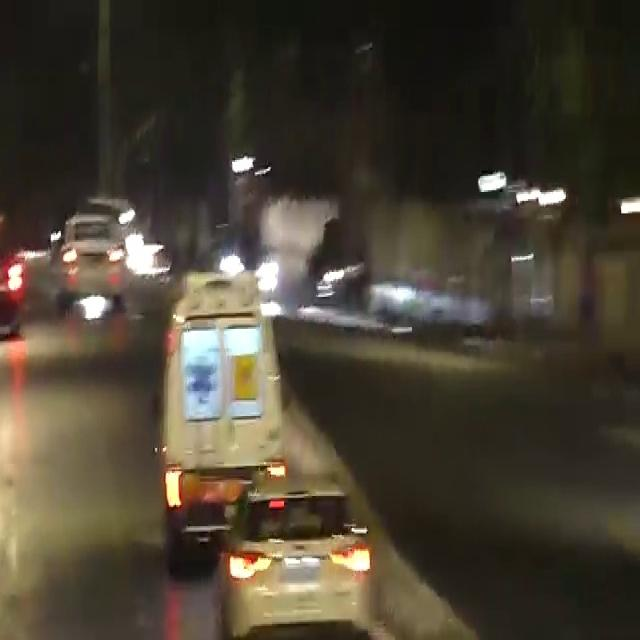ambulance: (159, 287, 315, 529)
